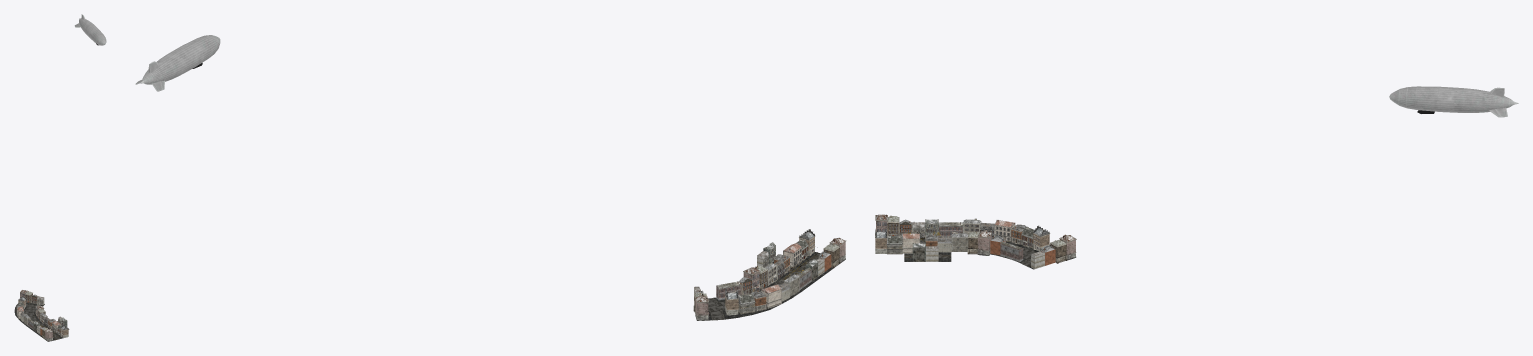
The model's file is after_the_rain_mobile.glb.
3 renders of one model, left to right at view 1: azimuth 30°, elevation 25°; view 2: azimuth 150°, elevation 25°; view 3: azimuth 270°, elevation 25°, orthographic. The views are drawn at different scales.
Parts seen in each view (by area): view 1: zeppelin, ground3, ground1, ground2; view 2: zeppelin, ground3; view 3: zeppelin.
Boxes of the visible parts, x1,y1,x2,y2 form: zeppelin: (74,14,106,45); ground3: (14,302,44,315); ground1: (29,321,69,341); ground2: (15,314,43,327); zeppelin: (135,35,220,91); ground3: (702,297,769,320); zeppelin: (1389,86,1518,117).
Size of the model in its own units: 264 by 212 by 371.
71 materials, 69 textured.
